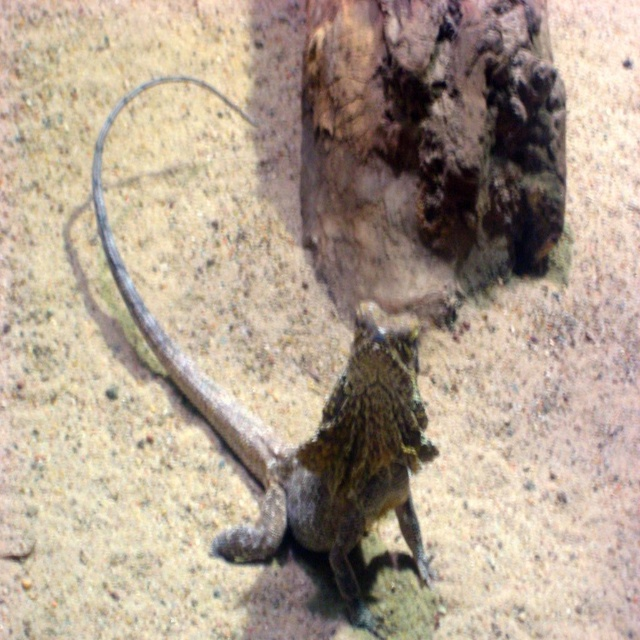Lizard: (91, 71, 438, 638)
